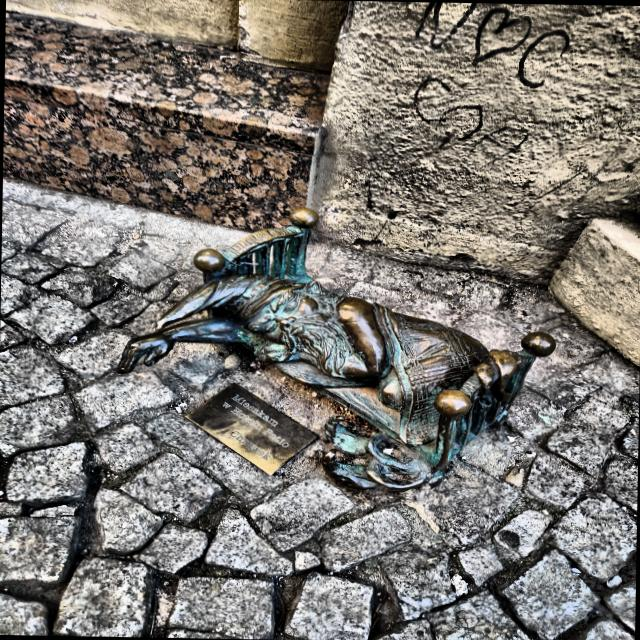Chrapek: (117, 207, 555, 490)
